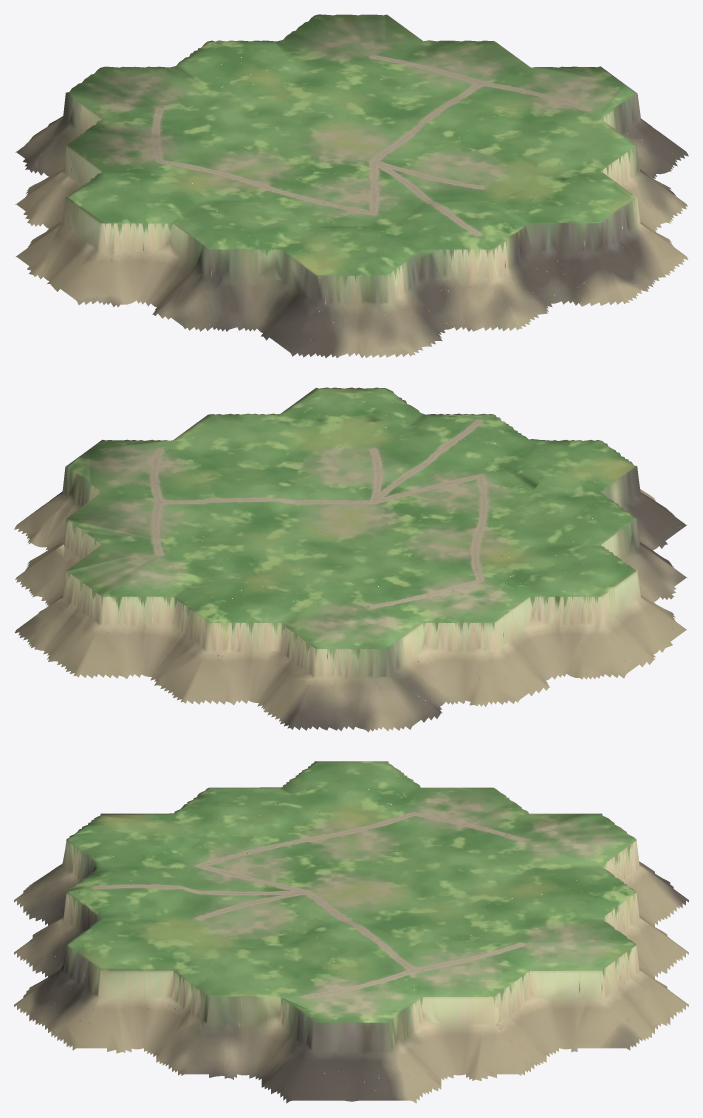
The model's file is terrain-modern.glb.
3 renders of one model, top to bottom at view 1: azimuth 30°, elevation 25°; view 2: azimuth 150°, elevation 25°; view 3: azimuth 270°, elevation 25°, orthographic.
Visible parts, largest first — view 1: terrain-modern; view 2: terrain-modern; view 3: terrain-modern.
Boxes of the visible parts, x1,y1,x2,y2 form: terrain-modern: [15, 14, 688, 357]; terrain-modern: [14, 387, 686, 732]; terrain-modern: [14, 761, 688, 1103].
Size of the model in its own units: 11.5 by 1.2 by 10.9.
1 material, 1 textured.
